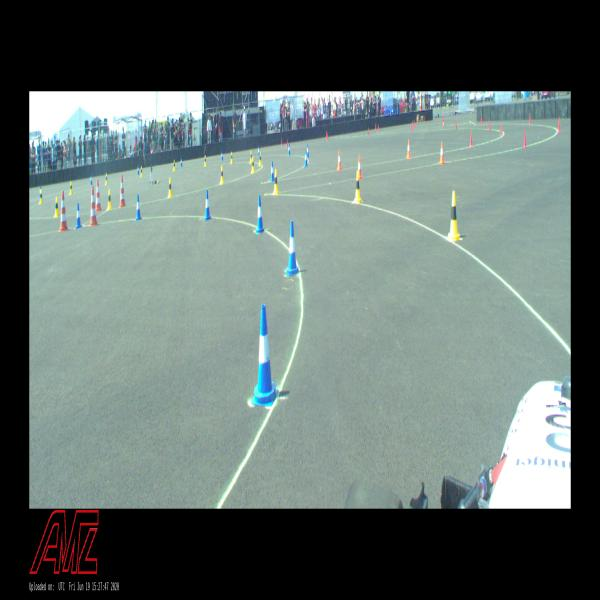blue_cone: (251, 305, 279, 406), (286, 220, 300, 276), (255, 196, 264, 234), (204, 190, 211, 221), (134, 194, 142, 220), (74, 203, 82, 229), (270, 162, 274, 182), (304, 150, 308, 167), (220, 151, 224, 161), (39, 185, 42, 198), (90, 174, 93, 185), (180, 156, 183, 167), (257, 145, 260, 156), (137, 165, 140, 175), (307, 144, 309, 158), (288, 144, 290, 155)
large_orange_cone: (58, 190, 69, 232), (90, 186, 97, 226), (118, 175, 126, 208), (94, 179, 101, 212)
orange_cone: (438, 142, 446, 164), (337, 150, 342, 170), (358, 155, 362, 179), (406, 139, 410, 158)
unknown_cone: (522, 129, 527, 148), (469, 130, 473, 147), (557, 118, 561, 132), (500, 122, 503, 136), (488, 118, 491, 130), (528, 114, 531, 124)
yellow_cone: (448, 192, 460, 241), (353, 171, 363, 203), (272, 170, 278, 195), (53, 195, 60, 216), (106, 189, 112, 211), (167, 178, 173, 198), (250, 156, 255, 173), (220, 166, 224, 184), (68, 182, 73, 195), (258, 151, 262, 166), (39, 190, 43, 204), (172, 160, 176, 171), (249, 150, 252, 163), (230, 152, 233, 164), (140, 166, 143, 177), (105, 174, 108, 185), (204, 156, 207, 166)
